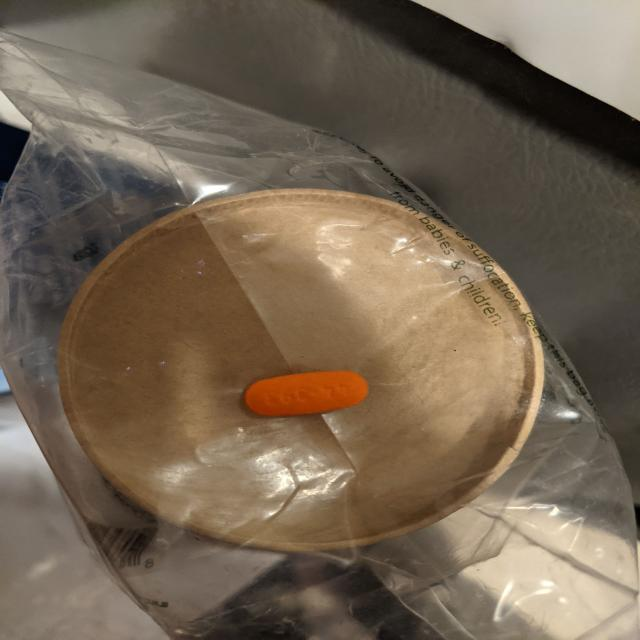non-organic waste: (243, 370, 370, 418)
